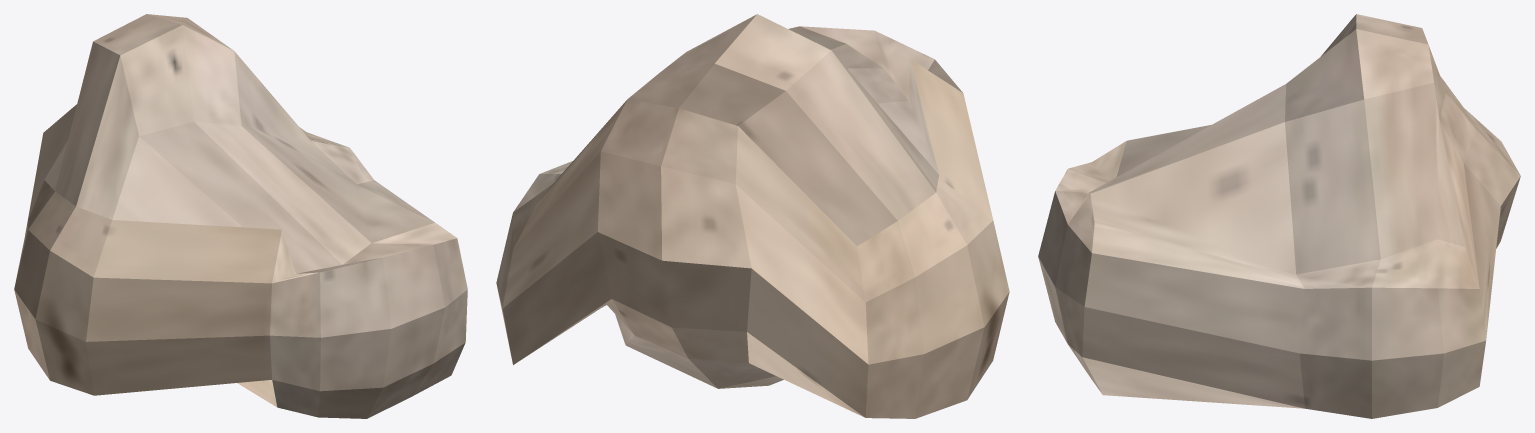
Rendered from Hole_3_Deformed_Rock.glb.
3 views of the same model, side by side, from view 1: azimuth 30°, elevation 25°; view 2: azimuth 150°, elevation 25°; view 3: azimuth 270°, elevation 25° (orthographic). The views are drawn at different scales.
Visible parts, largest first — view 1: Cube; view 2: Cube; view 3: Cube.
Part boxes in pixels (x1,y1,x2,y2): Cube: (14,14,467,418); Cube: (496,14,1009,418); Cube: (1038,14,1520,418).
Size of the model in its own units: 3.4 by 2.78 by 3.93.
1 material, 1 textured.
